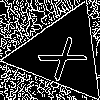X: (37, 28, 98, 82)
